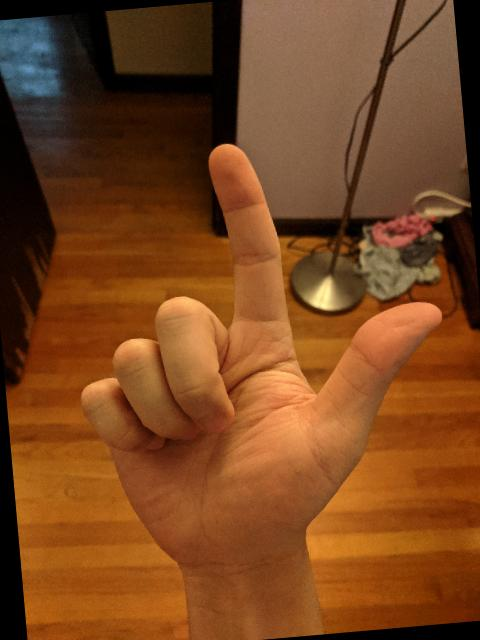L: (52, 121, 468, 580)
